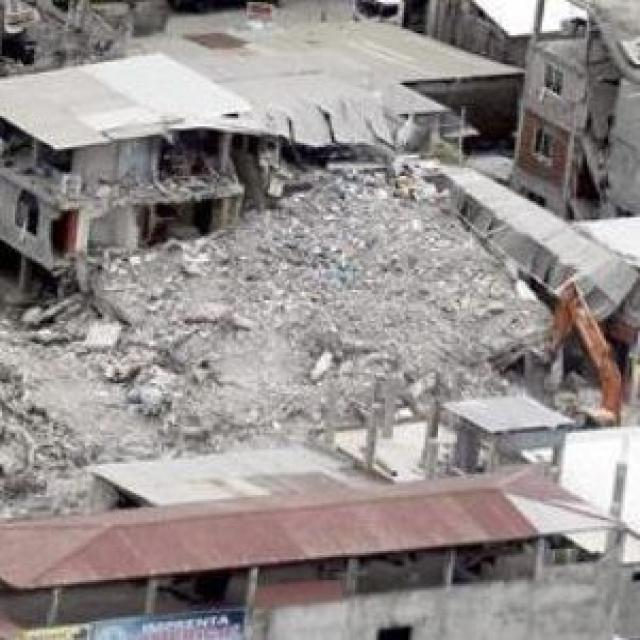collapsed_building: (12, 83, 516, 416)
